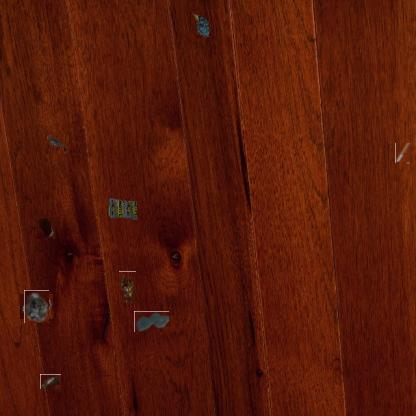dirty: (22, 292, 51, 321), (190, 10, 212, 38), (109, 198, 137, 220), (118, 271, 136, 304), (45, 134, 69, 154), (40, 374, 61, 389), (395, 144, 410, 164)
liquid: (134, 311, 169, 332), (37, 217, 55, 239)
